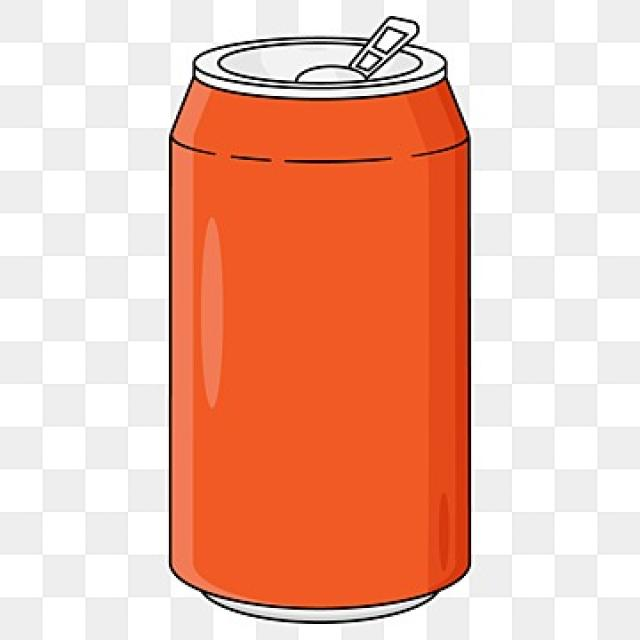soda_can: (146, 4, 511, 602)
